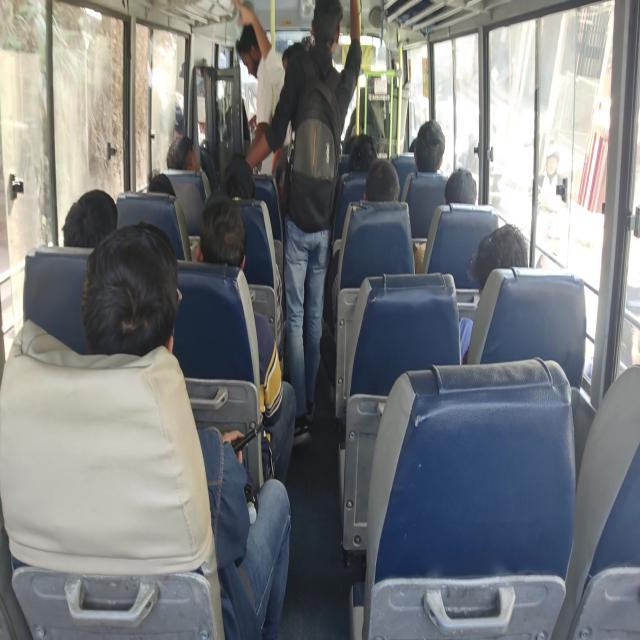person: (98, 243, 172, 377), (238, 25, 284, 118), (67, 189, 126, 259), (204, 188, 246, 256), (491, 225, 529, 300), (369, 165, 413, 226), (420, 114, 452, 188), (441, 155, 476, 222), (176, 134, 216, 183), (348, 135, 384, 183), (354, 140, 396, 179), (146, 170, 178, 212), (228, 159, 254, 205), (408, 131, 428, 172)
